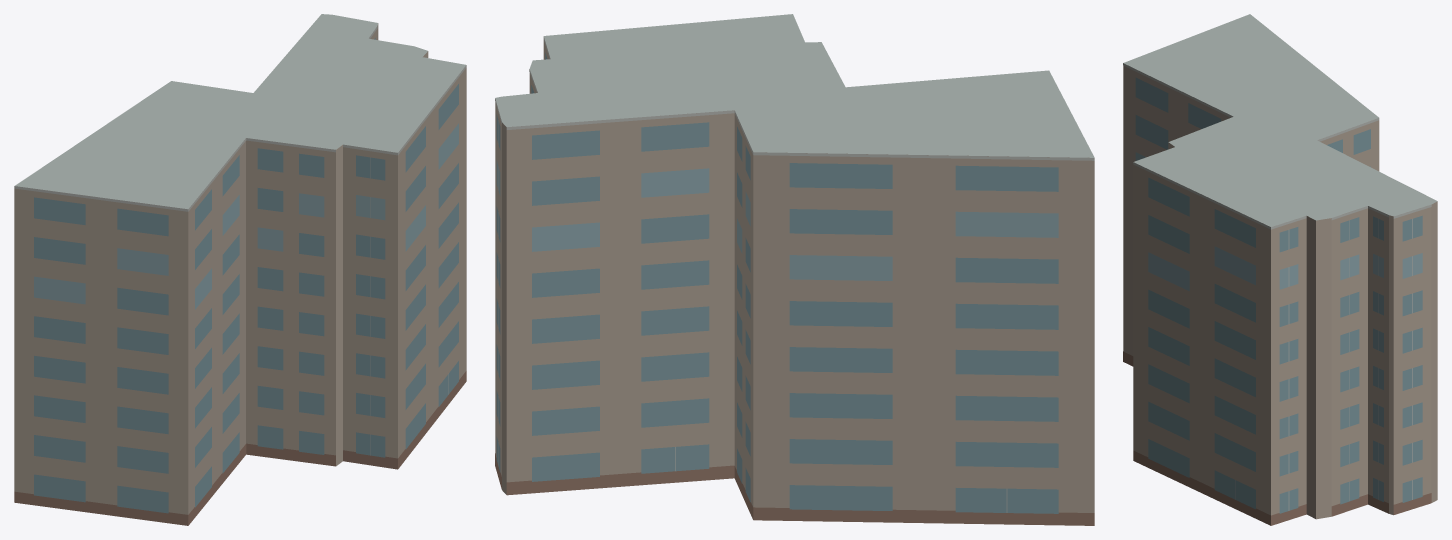
File: survey-upis-32918916.glb
3 views of the same model, side by side, from view 1: azimuth 30°, elevation 25°; view 2: azimuth 150°, elevation 25°; view 3: azimuth 270°, elevation 25° (orthographic). The views are drawn at different scales.
Parts seen in each view (by area): view 1: survey-upis-32918916.tmp; view 2: survey-upis-32918916.tmp; view 3: survey-upis-32918916.tmp.
Part boxes in pixels (x1,y1,x2,y2): survey-upis-32918916.tmp: (14,14,466,525); survey-upis-32918916.tmp: (495,14,1094,525); survey-upis-32918916.tmp: (1123,14,1437,525).
Size of the model in its own units: 46.15 by 30.15 by 28.79.
